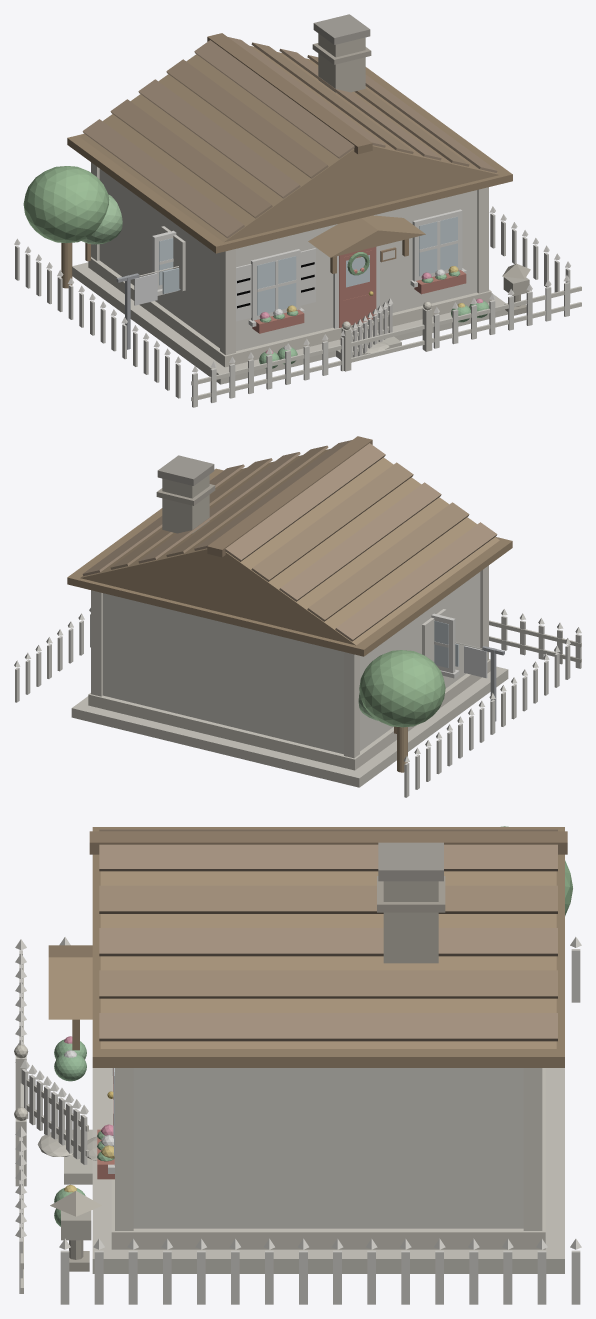
File: house-a.glb
3 views of the same model, one above another, from view 1: azimuth 30°, elevation 25°; view 2: azimuth 150°, elevation 25°; view 3: azimuth 270°, elevation 25° (orthographic). The views are drawn at different scales.
Visible parts, largest first — view 1: part_12, part_37, part_10, part_09, part_36, part_07, part_40, part_05, part_28, part_25, part_31, part_33 (+8 smaller); view 2: part_37, part_12, part_10, part_09, part_28, part_07, part_36, part_05, part_31, part_34, part_04, part_18 (+7 smaller); view 3: part_37, part_10, part_12, part_09, part_28, part_36, part_07, part_31, part_04, part_34, part_18, part_14 (+7 smaller).
Part boxes in pixels (left/top/right/bottom): part_12: left=61, top=45, right=499, bottom=288; part_37: left=99, top=169, right=477, bottom=351; part_10: left=82, top=37, right=497, bottom=238; part_09: left=110, top=42, right=469, bottom=218; part_36: left=14, top=206, right=570, bottom=407; part_07: left=67, top=67, right=512, bottom=273; part_40: left=152, top=209, right=466, bottom=328; part_05: left=23, top=166, right=109, bottom=243; part_28: left=72, top=262, right=507, bottom=384; part_25: left=159, top=216, right=457, bottom=315; part_31: left=88, top=257, right=491, bottom=367; part_33: left=191, top=286, right=581, bottom=401; part_37: left=103, top=572, right=480, bottom=754; part_12: left=80, top=449, right=499, bottom=772; part_10: left=82, top=440, right=497, bottom=641; part_09: left=110, top=445, right=469, bottom=621; part_28: left=71, top=666, right=508, bottom=787; part_07: left=67, top=468, right=512, bottom=656; part_36: left=14, top=608, right=581, bottom=797; part_05: left=359, top=650, right=445, bottom=727; part_31: left=88, top=659, right=490, bottom=770; part_34: left=91, top=565, right=488, bottom=758; part_04: left=207, top=436, right=372, bottom=557; part_18: left=162, top=475, right=209, bottom=533; part_37: left=133, top=1068, right=523, bottom=1228; part_10: left=99, top=829, right=557, bottom=1041; part_12: left=48, top=871, right=556, bottom=1048; part_09: left=99, top=830, right=557, bottom=998; part_28: left=92, top=1068, right=564, bottom=1273; part_36: left=15, top=937, right=581, bottom=1304; part_07: left=72, top=827, right=564, bottom=1067; part_31: left=111, top=1068, right=545, bottom=1249; part_04: left=89, top=831, right=567, bottom=854; part_34: left=115, top=1068, right=542, bottom=1230; part_18: left=383, top=881, right=438, bottom=963; part_14: left=378, top=842, right=443, bottom=881.
Size of the model in its own units: 13.46 by 7.36 by 10.34.
